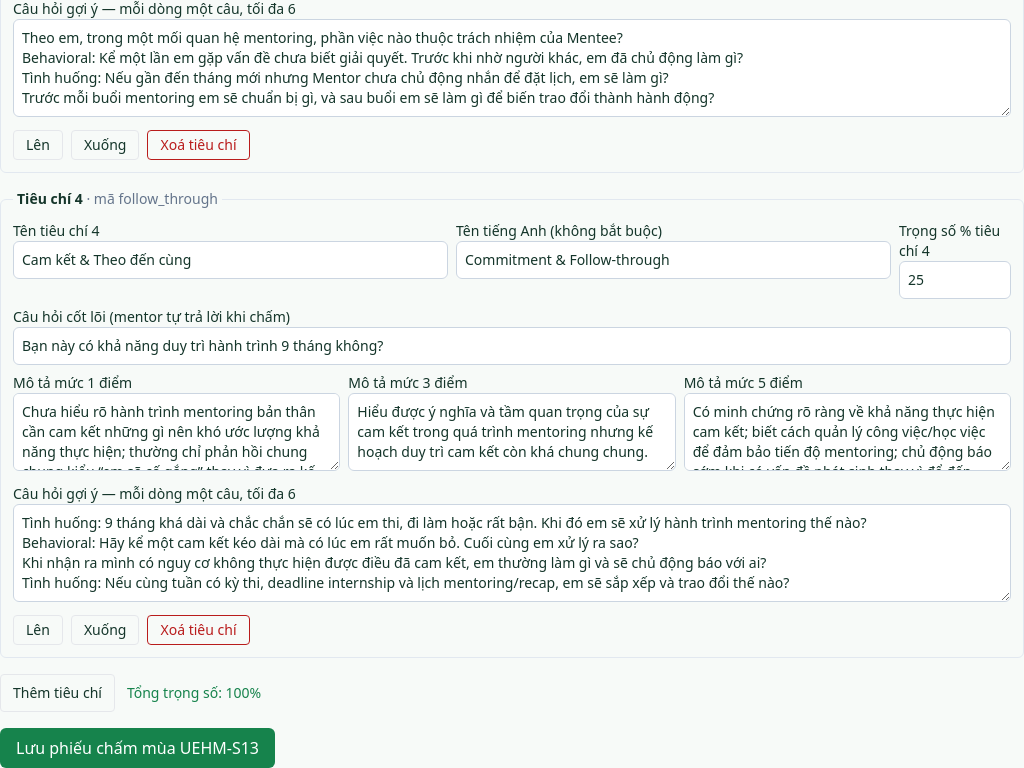
thêm tiêu chí: mã tự sinh không trùng, trọng số 0 → tổng vẫn 100; chưa đặt tên thì chặn lưu
(page scrolled)
Click the button "Thêm tiêu chí" at coordinates (57, 693), box left=0, top=674, right=115, bottom=712
(page scrolled)
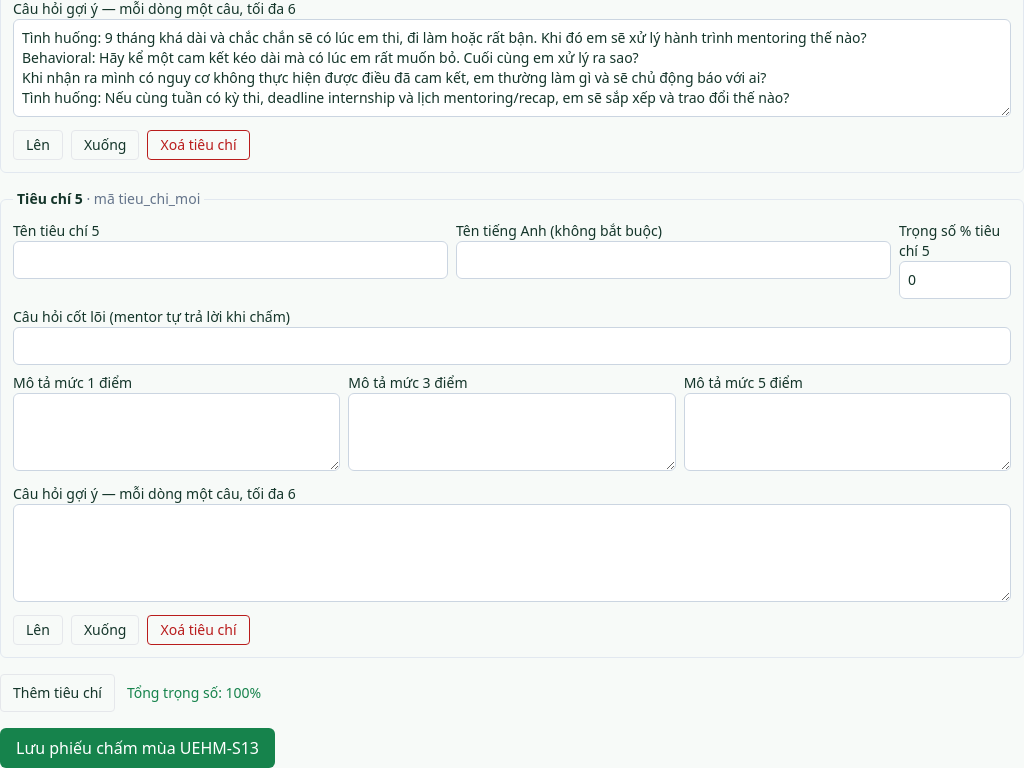
Expected: the text "Tổng trọng số: 100%" is shown, left=127, top=683, right=261, bottom=703
Expected: the number field labelled "Trọng số % tiêu chí 5" holds "0", left=899, top=261, right=1011, bottom=299
Expected: the element showing "Tiêu chí 5 · mã tieu_chi_moi" is shown, left=13, top=189, right=204, bottom=209
Click the button "Lưu phiếu chấm mùa UEHM-S13" at coordinates (138, 748), box left=0, top=728, right=275, bottom=767
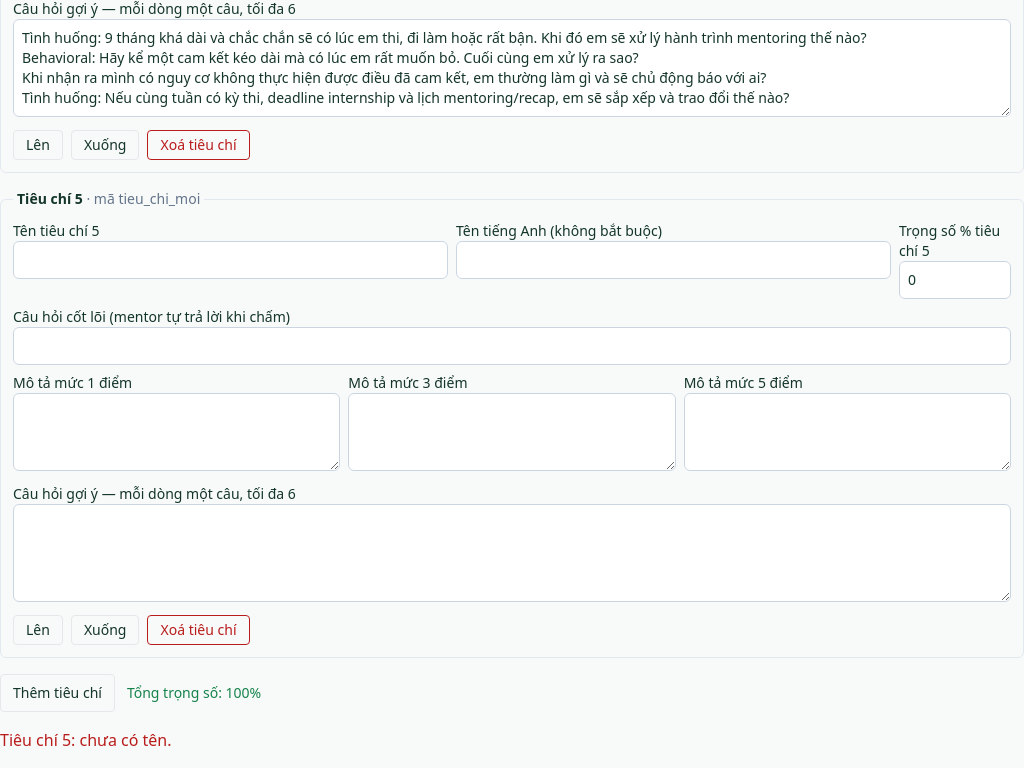
Expected: the message "Tiêu chí 5: chưa có tên." is shown, left=0, top=729, right=172, bottom=751
